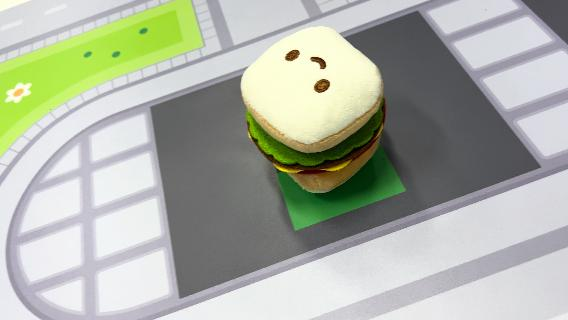sandwich: (238, 23, 390, 195)
